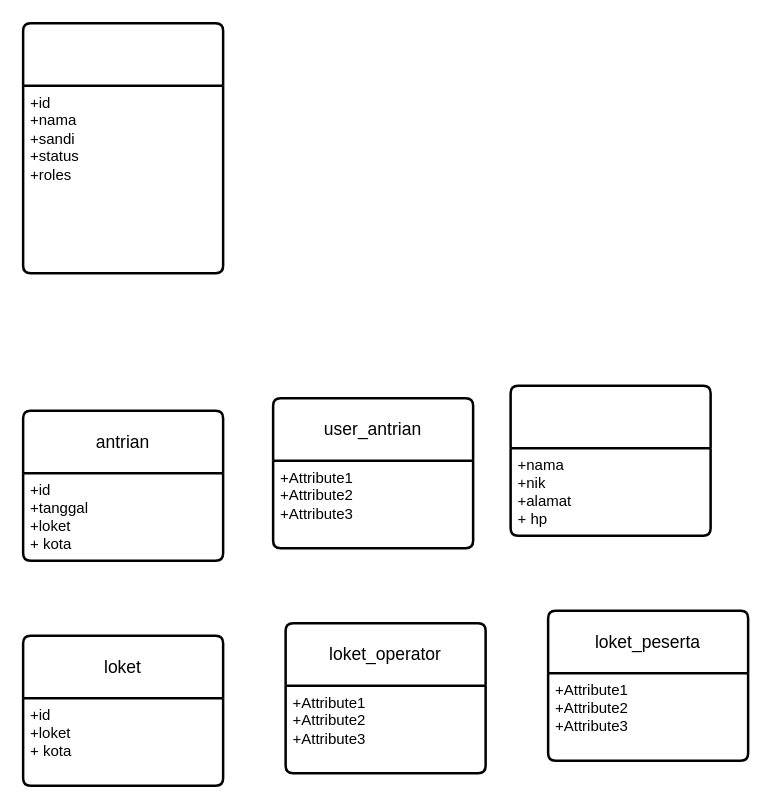
The diagram is 770 pixels wide and 808 high, and some of its shapes have lost their labels. The shapes that lost their labels are listed below. From the top down, each one's box as (x1, y1, x2, y2) in pixels, then its label:
(21, 21, 224, 274): users
(509, 384, 711, 536): peserta
